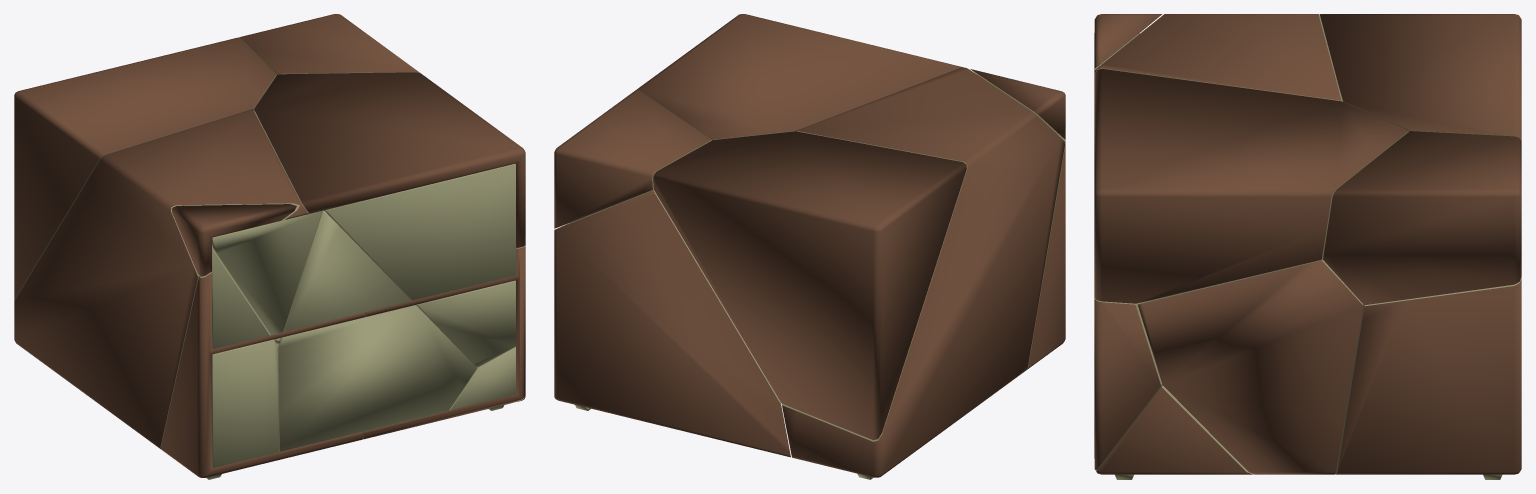
The model's file is Mesitadenoche02_Roto.fbx.
The picture shows the model from 3 angles, left to right: view 1: azimuth 30°, elevation 25°; view 2: azimuth 150°, elevation 25°; view 3: azimuth 270°, elevation 25°; orthographic projection. The views are drawn at different scales.
Parts seen in each view (by area): view 1: Mesita de noche2.001_cell.003, Mesita de noche2_cell.010, Mesita de noche2.001_cell.009, Mesita de noche2.001_cell, Mesita de noche2_cell.002, Mesita de noche2_cell.009, Mesita de noche2.001_cell.007, Mesita de noche2_cell, Mesita de noche2.001_cell.008, Mesita de noche2.001_cell.010, Mesita de noche2.001_cell.006, Mesita de noche2_cell.008; view 2: Mesita de noche2.001_cell, Mesita de noche2.001_cell.003, Mesita de noche2.001_cell.011, Mesita de noche2.001_cell.009, Mesita de noche2.001_cell.008, Mesita de noche2.001_cell.007, Mesita de noche2.001_cell.010; view 3: Mesita de noche2.001_cell.009, Mesita de noche2.001_cell.002, Mesita de noche2.001_cell.011, Mesita de noche2.001_cell.008, Mesita de noche2.001_cell, Mesita de noche2.001_cell.003, Mesita de noche2.001_cell.006, Mesita de noche2.001_cell.001, Mesita de noche2.001_cell.010.
Part boxes in pixels (x1=…): Mesita de noche2.001_cell.003: x1=14, y1=109, x2=308, y2=449; Mesita de noche2_cell.010: x1=278, y1=210, x2=476, y2=451; Mesita de noche2.001_cell.009: x1=254, y1=72, x2=525, y2=247; Mesita de noche2.001_cell: x1=14, y1=37, x2=276, y2=301; Mesita de noche2_cell.002: x1=307, y1=164, x2=515, y2=367; Mesita de noche2_cell.009: x1=206, y1=244, x2=278, y2=479; Mesita de noche2.001_cell.007: x1=161, y1=272, x2=365, y2=477; Mesita de noche2_cell: x1=212, y1=211, x2=321, y2=345; Mesita de noche2.001_cell.008: x1=239, y1=14, x2=420, y2=75; Mesita de noche2.001_cell.010: x1=172, y1=204, x2=296, y2=276; Mesita de noche2.001_cell.006: x1=363, y1=245, x2=525, y2=439; Mesita de noche2_cell.008: x1=449, y1=346, x2=515, y2=410; Mesita de noche2.001_cell: x1=653, y1=131, x2=966, y2=440; Mesita de noche2.001_cell.003: x1=781, y1=67, x2=1064, y2=477; Mesita de noche2.001_cell.011: x1=554, y1=189, x2=790, y2=457; Mesita de noche2.001_cell.009: x1=636, y1=14, x2=963, y2=140; Mesita de noche2.001_cell.008: x1=554, y1=90, x2=711, y2=228; Mesita de noche2.001_cell.007: x1=1026, y1=135, x2=1065, y2=370; Mesita de noche2.001_cell.010: x1=970, y1=69, x2=1065, y2=139; Mesita de noche2.001_cell.009: x1=1094, y1=68, x2=1408, y2=303; Mesita de noche2.001_cell.002: x1=1138, y1=259, x2=1363, y2=474; Mesita de noche2.001_cell.011: x1=1335, y1=277, x2=1521, y2=474; Mesita de noche2.001_cell.008: x1=1323, y1=131, x2=1521, y2=305; Mesita de noche2.001_cell: x1=1320, y1=14, x2=1521, y2=140; Mesita de noche2.001_cell.003: x1=1094, y1=14, x2=1343, y2=101; Mesita de noche2.001_cell.006: x1=1094, y1=298, x2=1161, y2=470; Mesita de noche2.001_cell.001: x1=1096, y1=384, x2=1254, y2=474; Mesita de noche2.001_cell.010: x1=1094, y1=14, x2=1162, y2=68.
Size of the model in its own units: 70.73 by 54.18 by 70.79.
